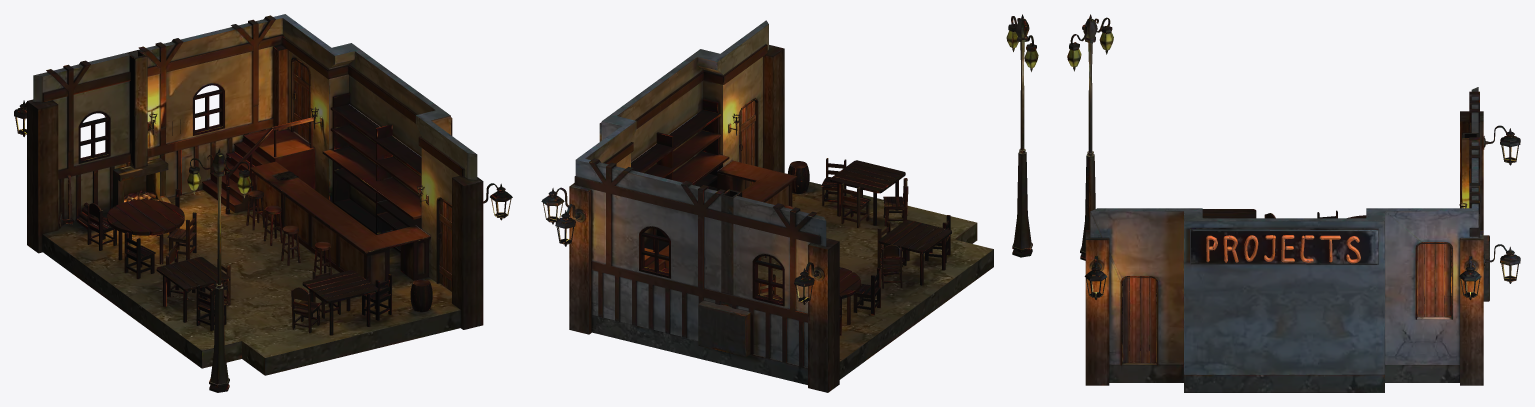
The model's file is tavern.glb.
3 renders of one model, left to right at view 1: azimuth 30°, elevation 25°; view 2: azimuth 150°, elevation 25°; view 3: azimuth 270°, elevation 25°, orthographic.
Visible parts, largest first — view 1: Piso_Surface - Matte_0.002; view 2: Piso_Surface - Matte_0.002; view 3: Piso_Surface - Matte_0.002.
Part boxes in pixels (bbox=[...]): Piso_Surface - Matte_0.002: bbox=[14, 14, 512, 392]; Piso_Surface - Matte_0.002: bbox=[541, 14, 1038, 392]; Piso_Surface - Matte_0.002: bbox=[1067, 14, 1520, 392].
Bounding box in the file's own units: 7.52 × 5.45 × 9.2.
1 material, 1 textured.
